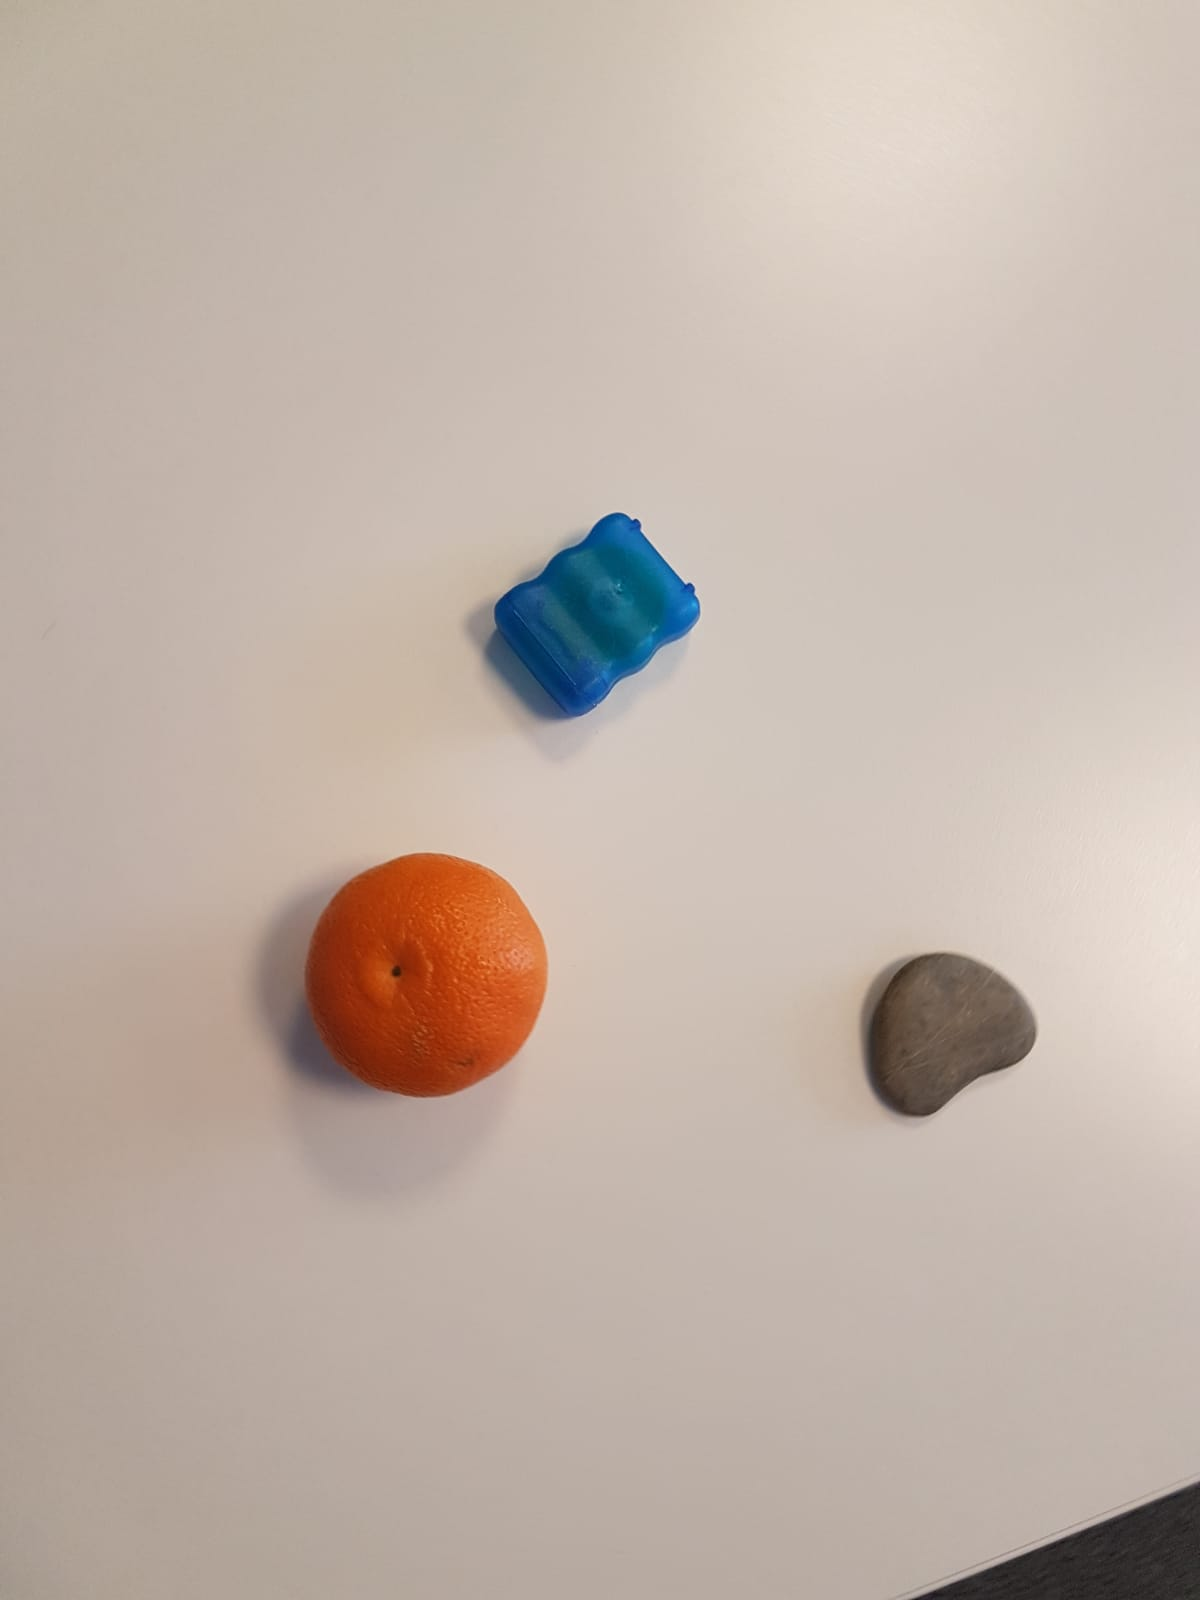Box: (489, 513, 705, 716)
Orange: (303, 854, 543, 1101)
Stone: (866, 952, 1041, 1123)
